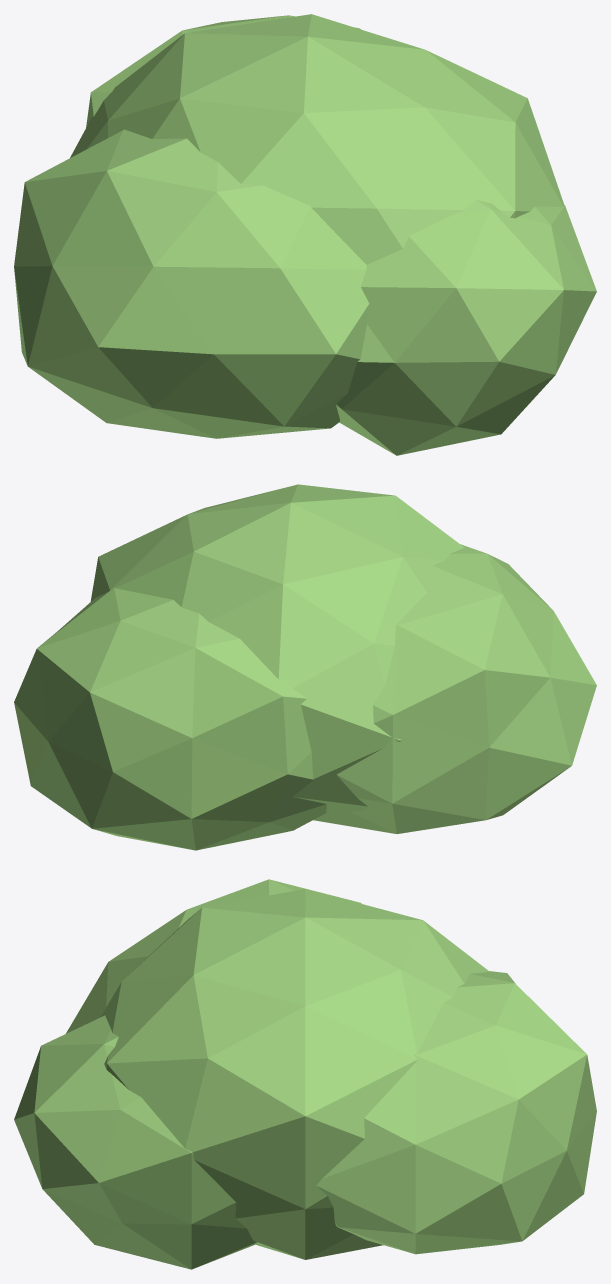
Rendered from arbusto_1.fbx.
3 renders of one model, top to bottom at view 1: azimuth 30°, elevation 25°; view 2: azimuth 150°, elevation 25°; view 3: azimuth 270°, elevation 25°, orthographic. The views are drawn at different scales.
Visible parts, largest first — view 1: arbusto_1~Folhagem 2@leaf, arbusto_1~Folhagem 0@leaf, arbusto_1~Folhagem 3@leaf, arbusto_1~Folhagem 1@leaf; view 2: arbusto_1~Folhagem 1@leaf, arbusto_1~Folhagem 0@leaf, arbusto_1~Folhagem 2@leaf; view 3: arbusto_1~Folhagem 0@leaf, arbusto_1~Folhagem 1@leaf, arbusto_1~Folhagem 3@leaf, arbusto_1~Folhagem 2@leaf.
Part boxes in pixels (x1,y1,x2,y2): arbusto_1~Folhagem 2@leaf: (14,129,369,438); arbusto_1~Folhagem 0@leaf: (70,14,563,264); arbusto_1~Folhagem 3@leaf: (336,200,596,455); arbusto_1~Folhagem 1@leaf: (86,15,360,127); arbusto_1~Folhagem 1@leaf: (14,587,326,850); arbusto_1~Folhagem 0@leaf: (90,484,464,814); arbusto_1~Folhagem 2@leaf: (313,544,596,833); arbusto_1~Folhagem 0@leaf: (100,889,489,1259); arbusto_1~Folhagem 1@leaf: (316,971,596,1254); arbusto_1~Folhagem 3@leaf: (14,1015,256,1269); arbusto_1~Folhagem 2@leaf: (66,879,361,1033).
Bounding box in the file's own units: 1.61 × 1.03 × 1.74.
